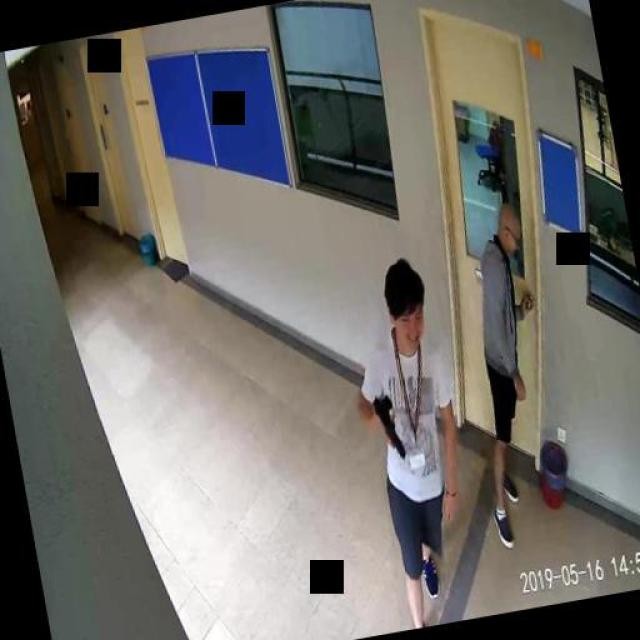gun: (370, 392, 404, 458)
